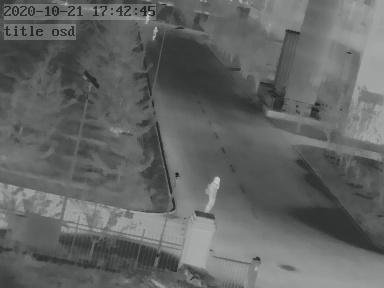person: (204, 173, 220, 211), (152, 24, 158, 40), (146, 10, 152, 25)
